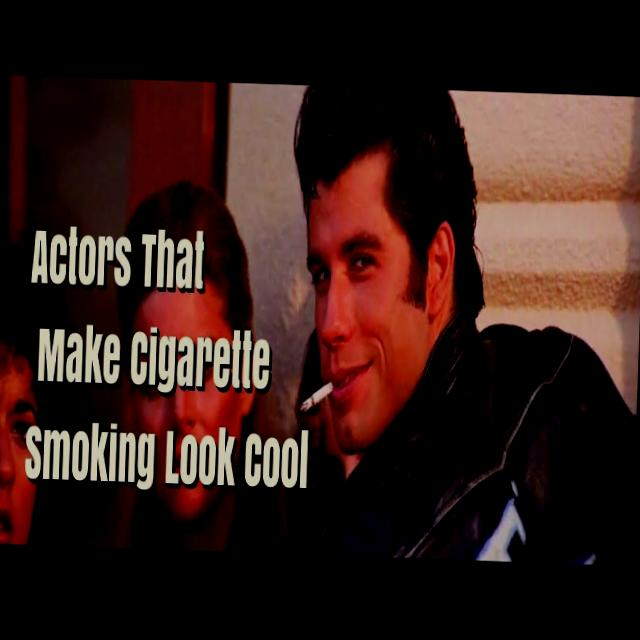cigarette: (288, 364, 362, 422)
